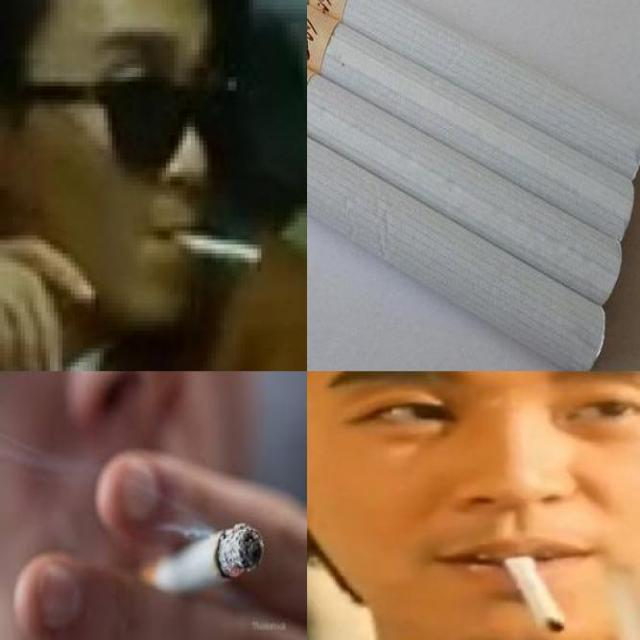smoking: (306, 18, 608, 370), (307, 0, 625, 310), (307, 0, 637, 244), (307, 0, 639, 182), (138, 524, 266, 600), (499, 546, 566, 634), (157, 224, 265, 266)
